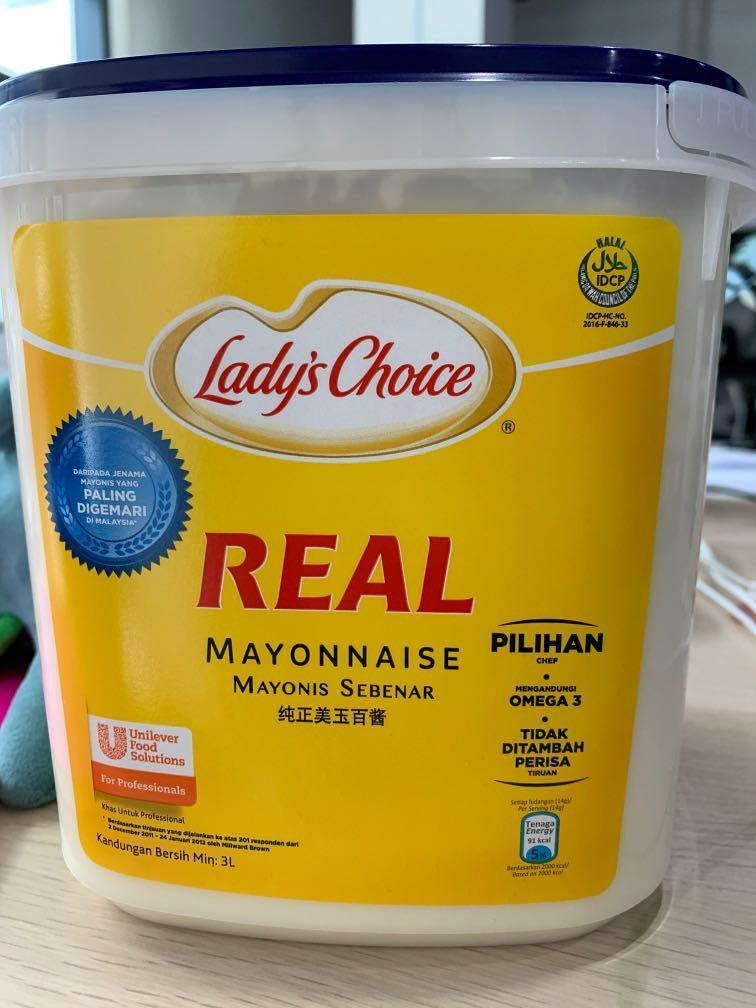plastic: (0, 46, 755, 943)
